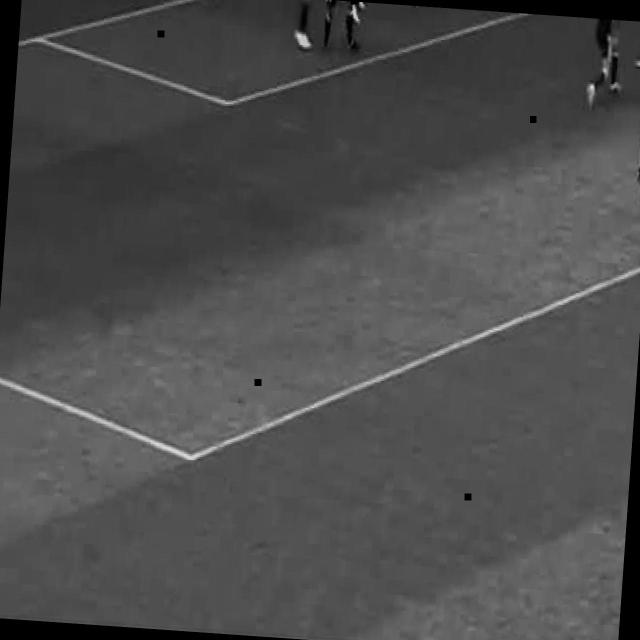player-white: (570, 17, 624, 109), (315, 0, 359, 51), (629, 78, 640, 265), (283, 0, 314, 50), (350, 1, 380, 26), (634, 22, 640, 66)
